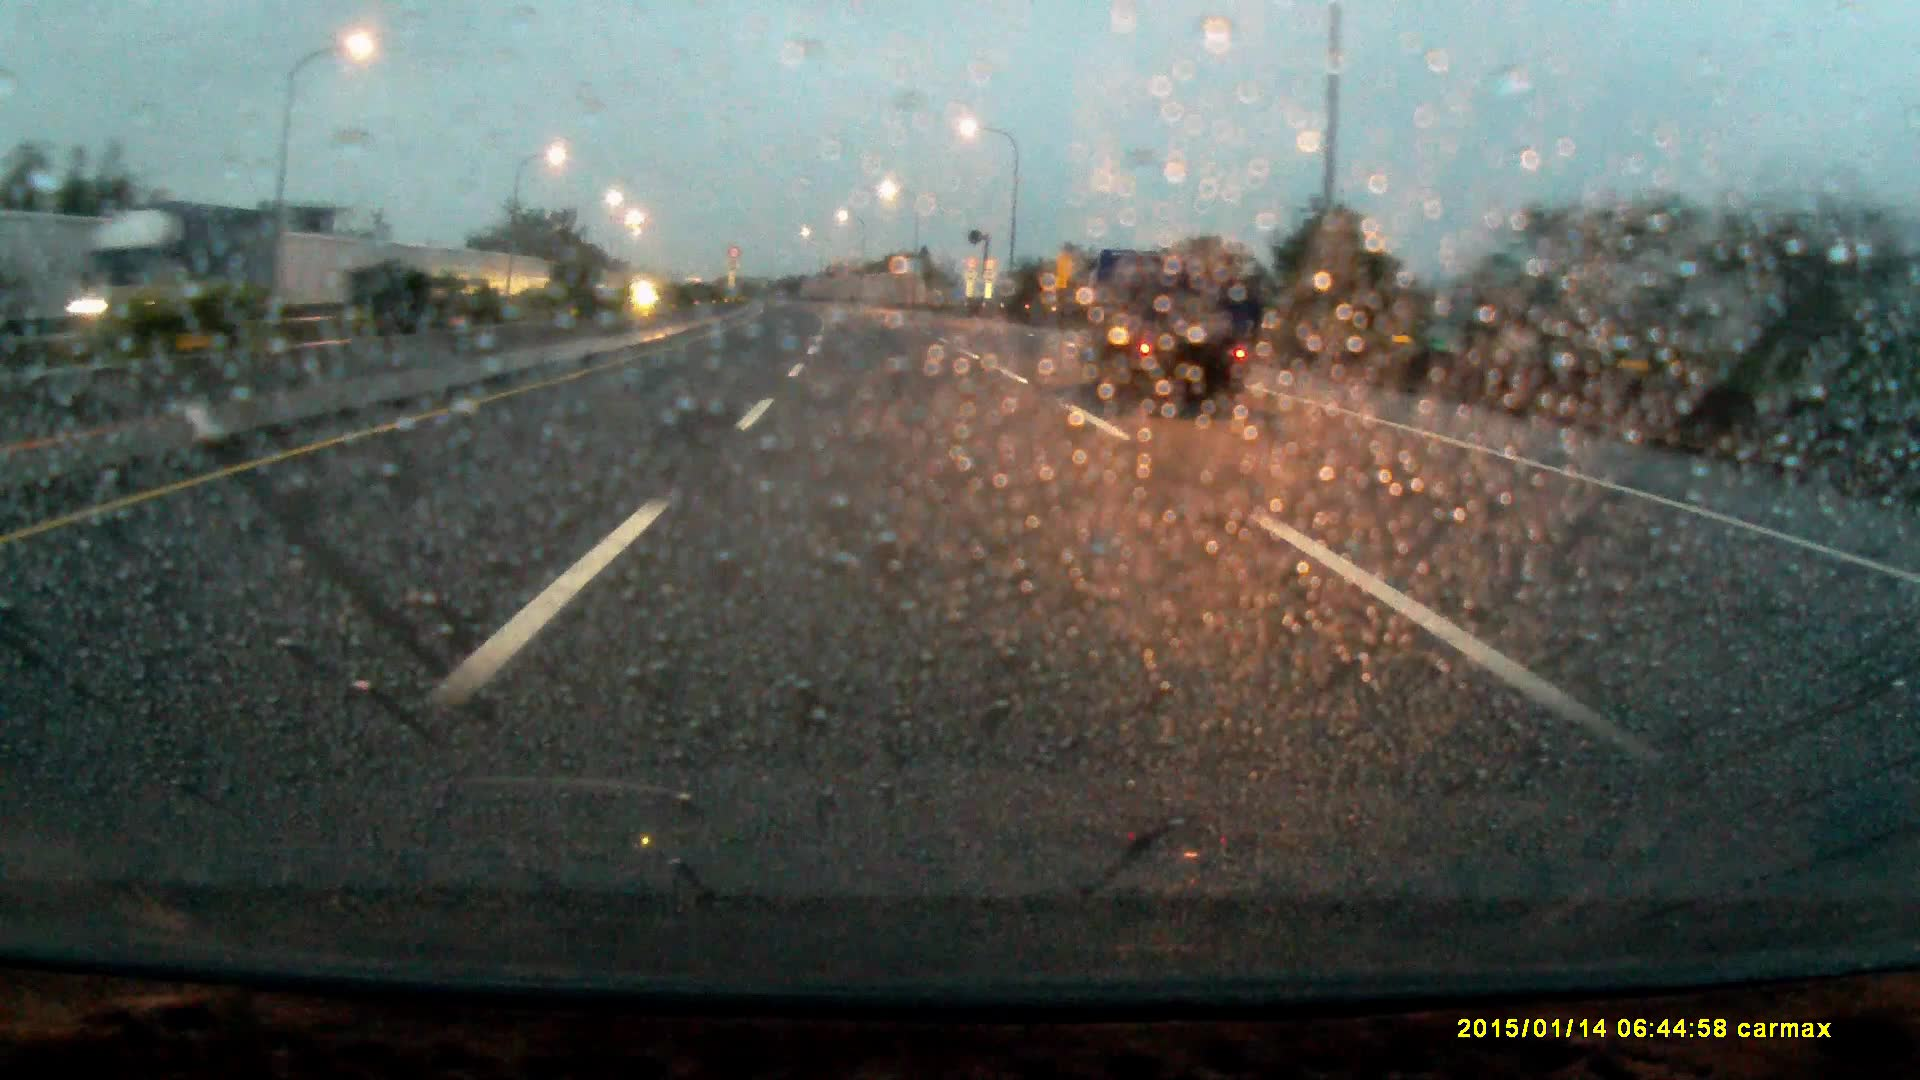vehicle: (1073, 247, 1246, 407), (109, 203, 262, 336)
